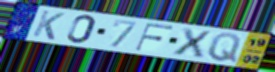0: (65, 14, 97, 45)
7: (110, 19, 139, 49)
F: (133, 22, 176, 52)
K: (30, 9, 67, 41)
Q: (206, 32, 243, 64)
X: (171, 27, 213, 59)
